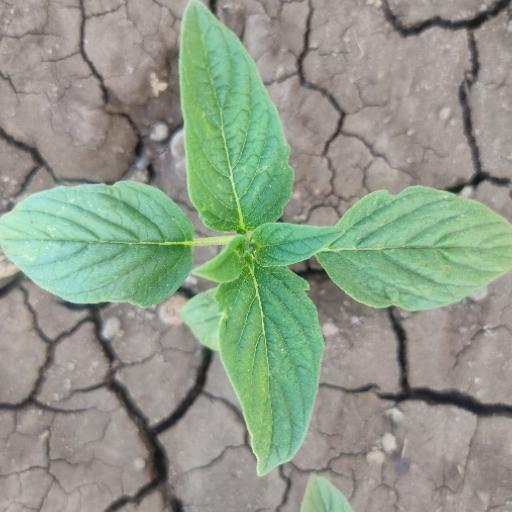crop: (3, 4, 512, 474)
